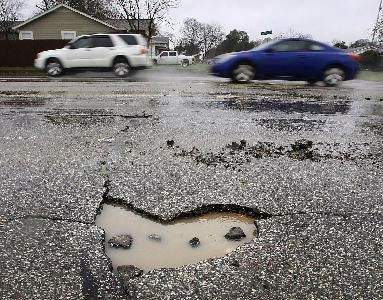pothole: (90, 195, 267, 275), (224, 97, 347, 115), (0, 88, 40, 96)
